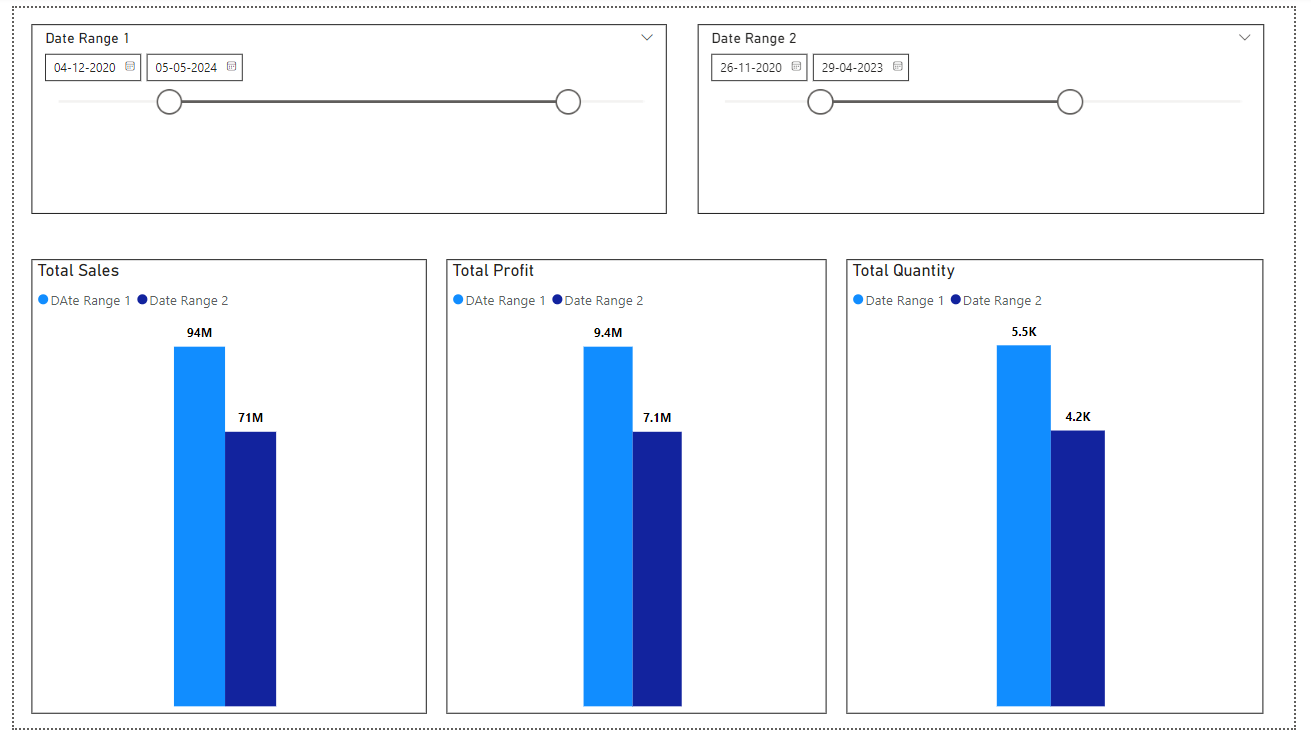

What the dashboard file says about the page in this screenshot:
{"tool":"powerbi","page":{"name":"Date Range-DAX","canvas":[1280,720],"ordinal":4},"visuals":[{"type":"slicer","fields":{"Values":["Date Table 1.Date"]},"box":[17.8,16.5,635.3,189.4],"z":0},{"type":"slicer","fields":{"Values":["Date Table 2.Date"]},"box":[683.4,16.5,566.7,189.4],"z":1000},{"type":"clusteredColumnChart","title":"Total Sales","fields":{"Y":["Sum(Fact Table.Net Sales)","Date Table 1.Sum of Net Sales"]},"box":[17.8,251.1,395.2,454.2],"z":2000},{"type":"clusteredColumnChart","title":"Total Profit","fields":{"Y":["Sum(Fact Table.Profit)","Measure Table.Sum of Net Profit"]},"box":[432.2,251.1,380.1,454.2],"z":3000},{"type":"clusteredColumnChart","title":"Total Sales","fields":{"Y":["Sum(Fact Table.Units Sold)","Measure Table.Sum of Unit Sold"]},"box":[832.9,251.1,417.2,454.2],"z":4000}]}

Visuals, with their boxes in screenshot pixels (x1, y1, x2, y2), scaled from the page's 1280x720 canvas onto the 1311x741 screenshot:
slicer - Date Table 1.Date: detection(18, 17, 669, 212)
slicer - Date Table 2.Date: detection(700, 17, 1280, 212)
"Total Sales" clusteredColumnChart: detection(18, 258, 423, 726)
"Total Profit" clusteredColumnChart: detection(443, 258, 832, 726)
"Total Sales" clusteredColumnChart: detection(853, 258, 1280, 726)
